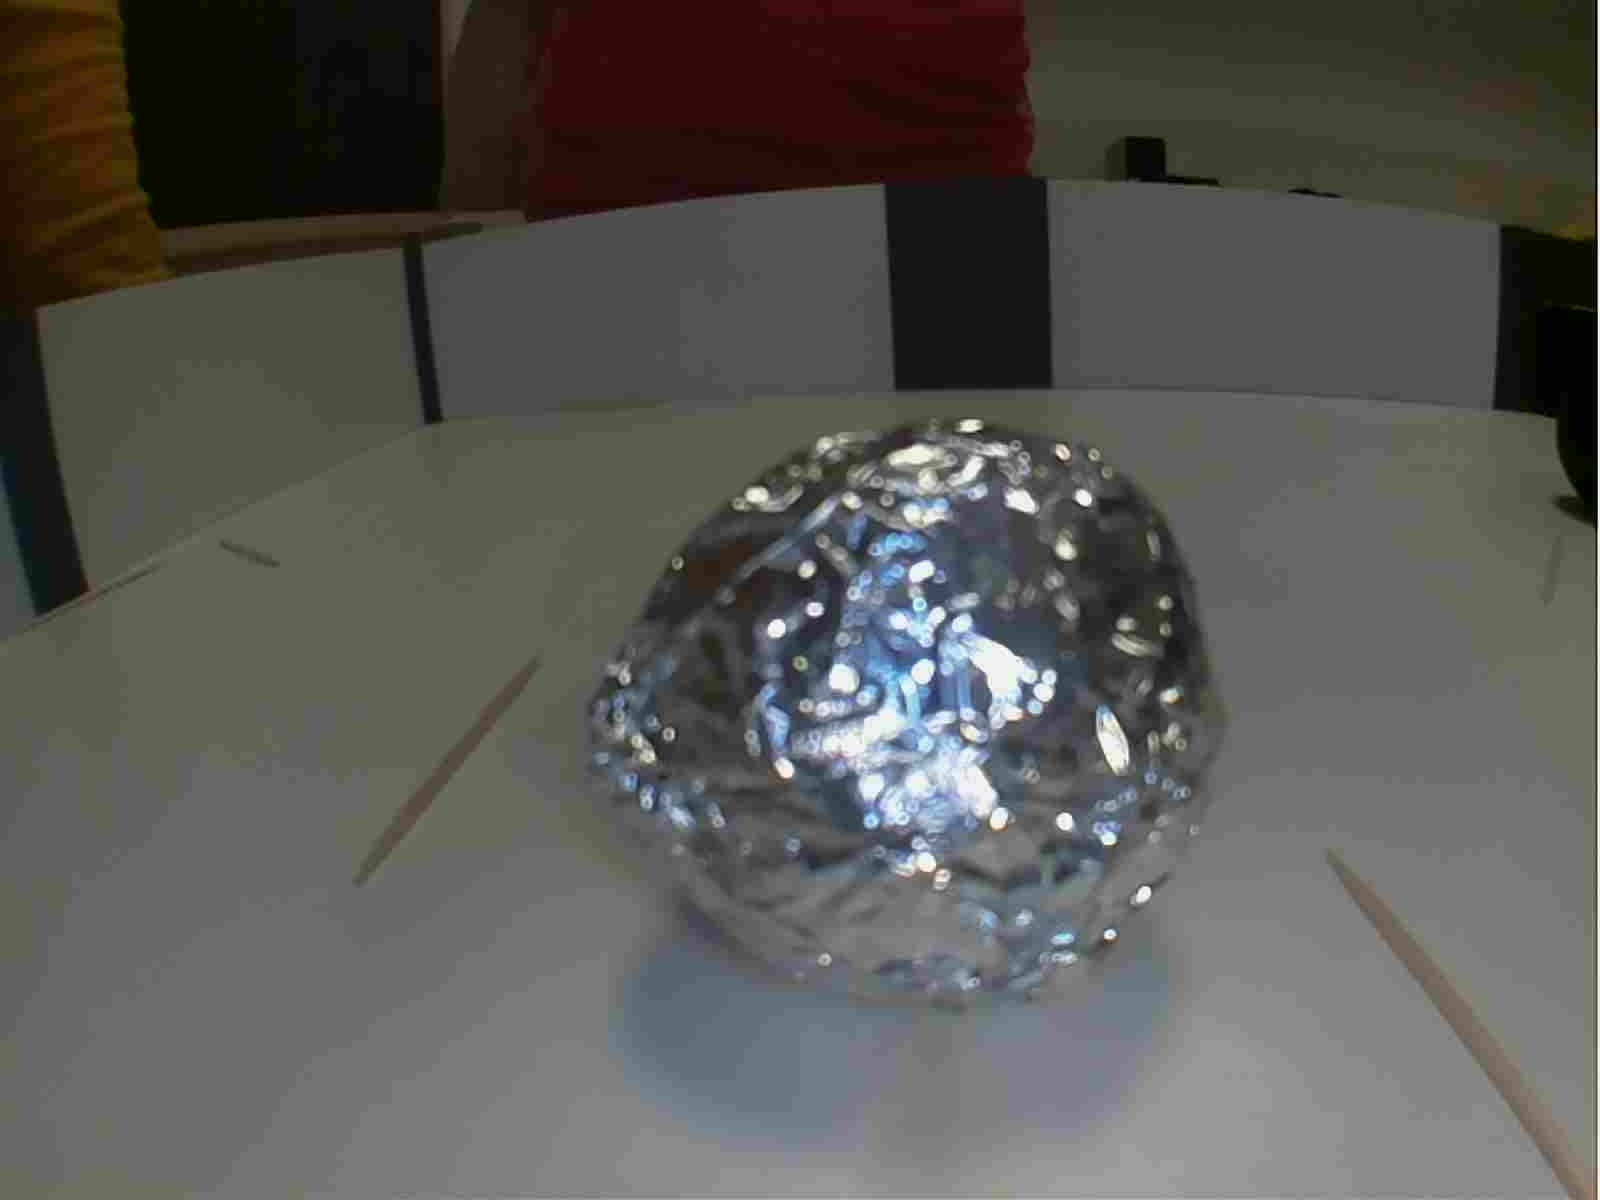bianca: (568, 418, 1218, 1026)
